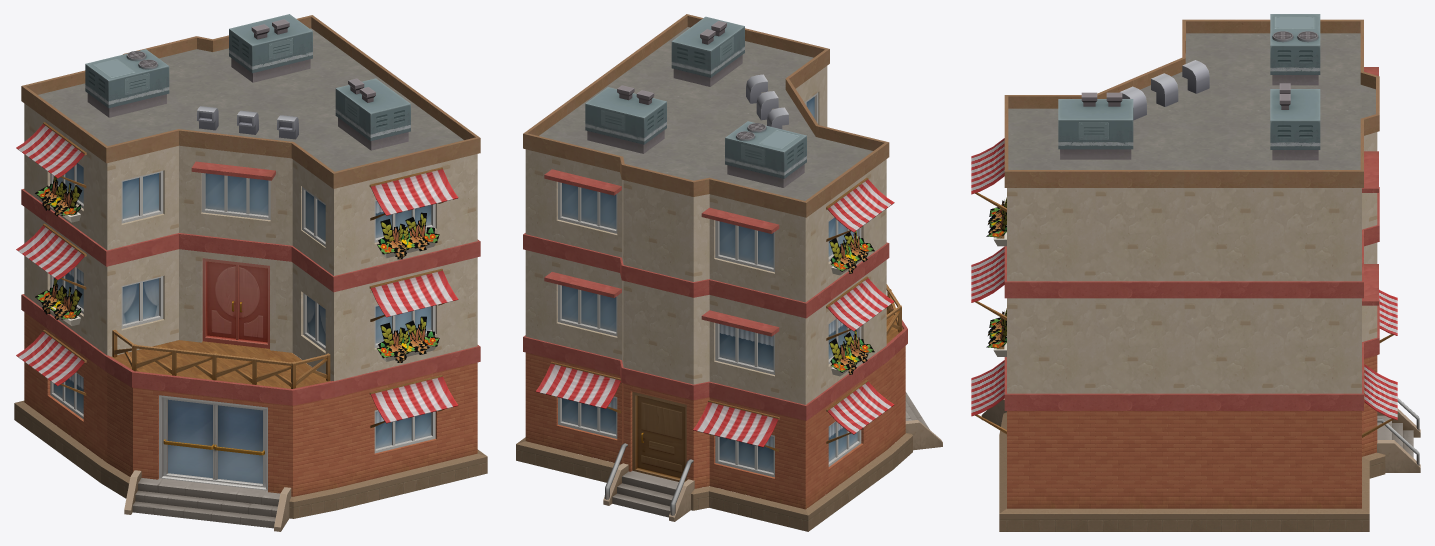
Rendered from Building_4.glb.
3 views of the same model, side by side, from view 1: azimuth 30°, elevation 25°; view 2: azimuth 150°, elevation 25°; view 3: azimuth 270°, elevation 25° (orthographic). The views are drawn at different scales.
Parts seen in each view (by area): view 1: Building_4_Walls_2; view 2: Building_4_Walls_2; view 3: Building_4_Walls_2.
Boxes of the visible parts, left/top/right/bottom form: Building_4_Walls_2: left=14, top=14, right=487, bottom=531; Building_4_Walls_2: left=516, top=14, right=942, bottom=531; Building_4_Walls_2: left=971, top=14, right=1420, bottom=531.
Size of the model in its own units: 8.98 by 9.86 by 10.13.
14 materials, 14 textured.
